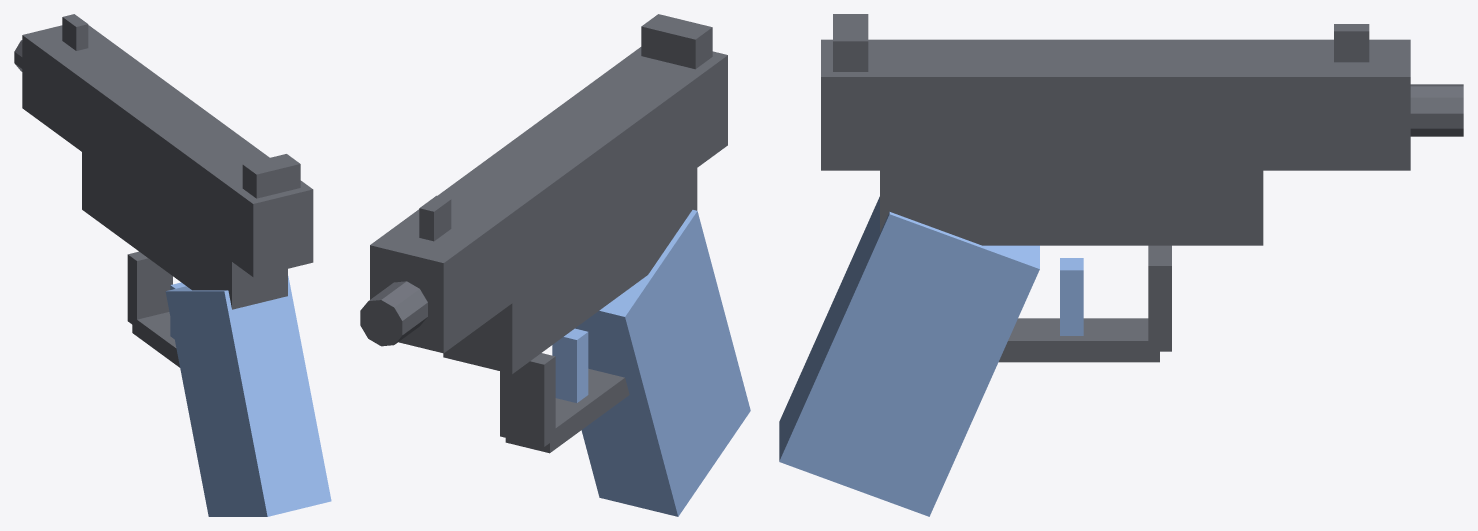
Rendered from handgun.glb.
3 renders of one model, left to right at view 1: azimuth 30°, elevation 25°; view 2: azimuth 150°, elevation 25°; view 3: azimuth 270°, elevation 25°, orthographic. The views are drawn at different scales.
Visible parts, largest first — view 1: Slide, Grip, Frame, TriggerGuardFront, RearSight, TriggerGuardBottom, FrontSight; view 2: Slide, Grip, Frame, TriggerGuardFront, Barrel, TriggerGuardBottom, RearSight, Trigger, FrontSight; view 3: Slide, Grip, Frame, TriggerGuardBottom, Barrel, TriggerGuardFront, RearSight, Trigger, FrontSight.
Boxes of the visible parts, bbox=[...] form: Slide: bbox=[22, 25, 313, 277]; Grip: bbox=[165, 276, 331, 516]; Frame: bbox=[82, 152, 287, 309]; TriggerGuardFront: bbox=[127, 251, 172, 327]; RearSight: bbox=[242, 154, 300, 198]; TriggerGuardBottom: bbox=[132, 312, 179, 367]; FrontSight: bbox=[62, 14, 88, 50]; Slide: bbox=[370, 47, 727, 353]; Grip: bbox=[575, 210, 750, 516]; Frame: bbox=[443, 168, 697, 374]; TriggerGuardFront: bbox=[500, 353, 555, 446]; Barrel: bbox=[360, 281, 427, 346]; TriggerGuardBottom: bbox=[505, 368, 629, 453]; RearSight: bbox=[641, 14, 712, 69]; Trigger: bbox=[552, 328, 588, 402]; FrontSight: bbox=[419, 195, 451, 241]; Slide: bbox=[821, 39, 1410, 170]; Grip: bbox=[779, 196, 1039, 516]; Frame: bbox=[880, 170, 1263, 245]; TriggerGuardBottom: bbox=[999, 318, 1159, 362]; Barrel: bbox=[1410, 84, 1463, 136]; TriggerGuardFront: bbox=[1148, 245, 1171, 351]; RearSight: bbox=[833, 14, 868, 71]; Trigger: bbox=[1060, 258, 1083, 335]; FrontSight: bbox=[1334, 24, 1369, 62].
Size of the model in its own units: 0.032 by 0.1757 by 0.2322.
